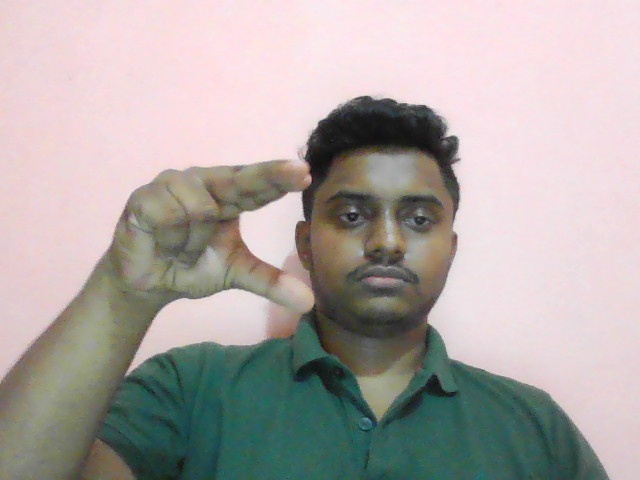No: (115, 158, 316, 321)
